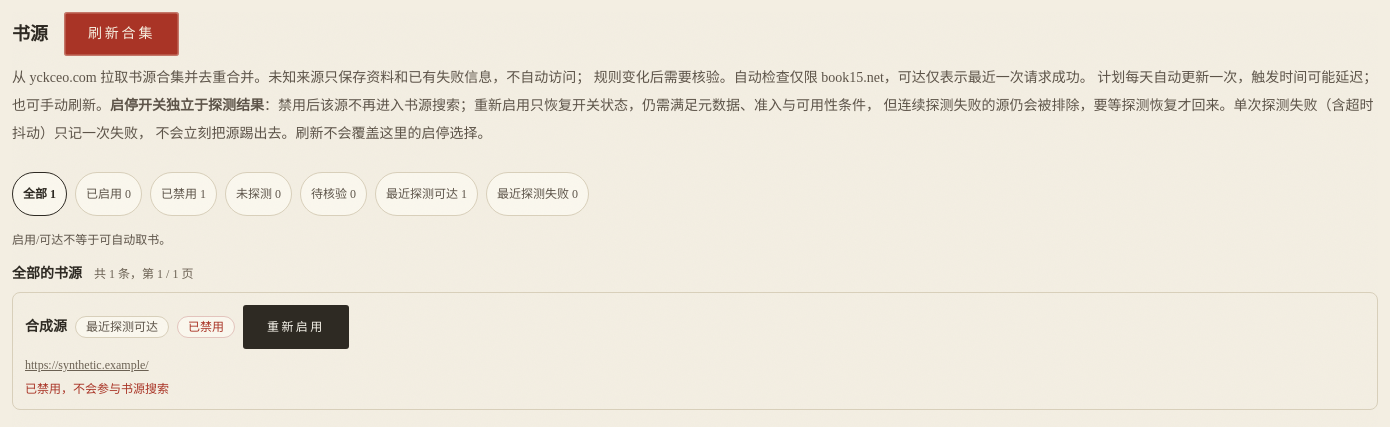
Test case: enable 会话边界 › POST 正文迟到：normal
This screenshot has width=1390, height=427.
Expected: the text "合成源" is shown, [25, 317, 67, 337]
Step 1. Click the button "重新启用" → {"x": 296, "y": 327}, box [243, 305, 349, 349]
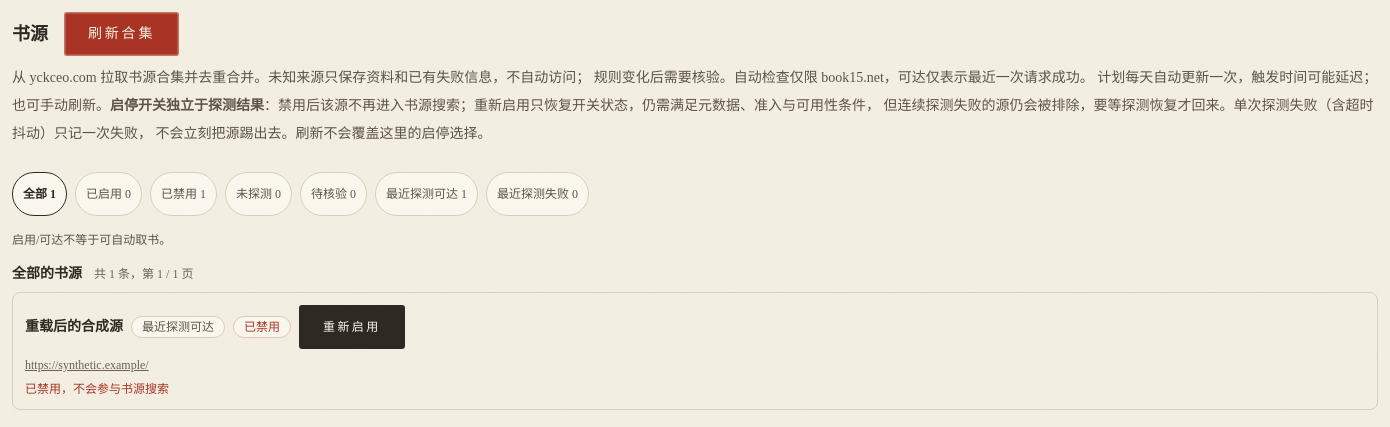
Expected: the button "重新启用" is enabled, [299, 305, 405, 349]
Result: the text "重载后的合成源" is shown at [25, 317, 123, 337]
